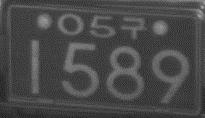0: (57, 12, 84, 36)
1: (19, 38, 50, 94)
5: (61, 42, 99, 97), (88, 13, 116, 39)
8: (104, 44, 145, 102)
9: (150, 48, 189, 104)
구: (120, 14, 147, 39)
